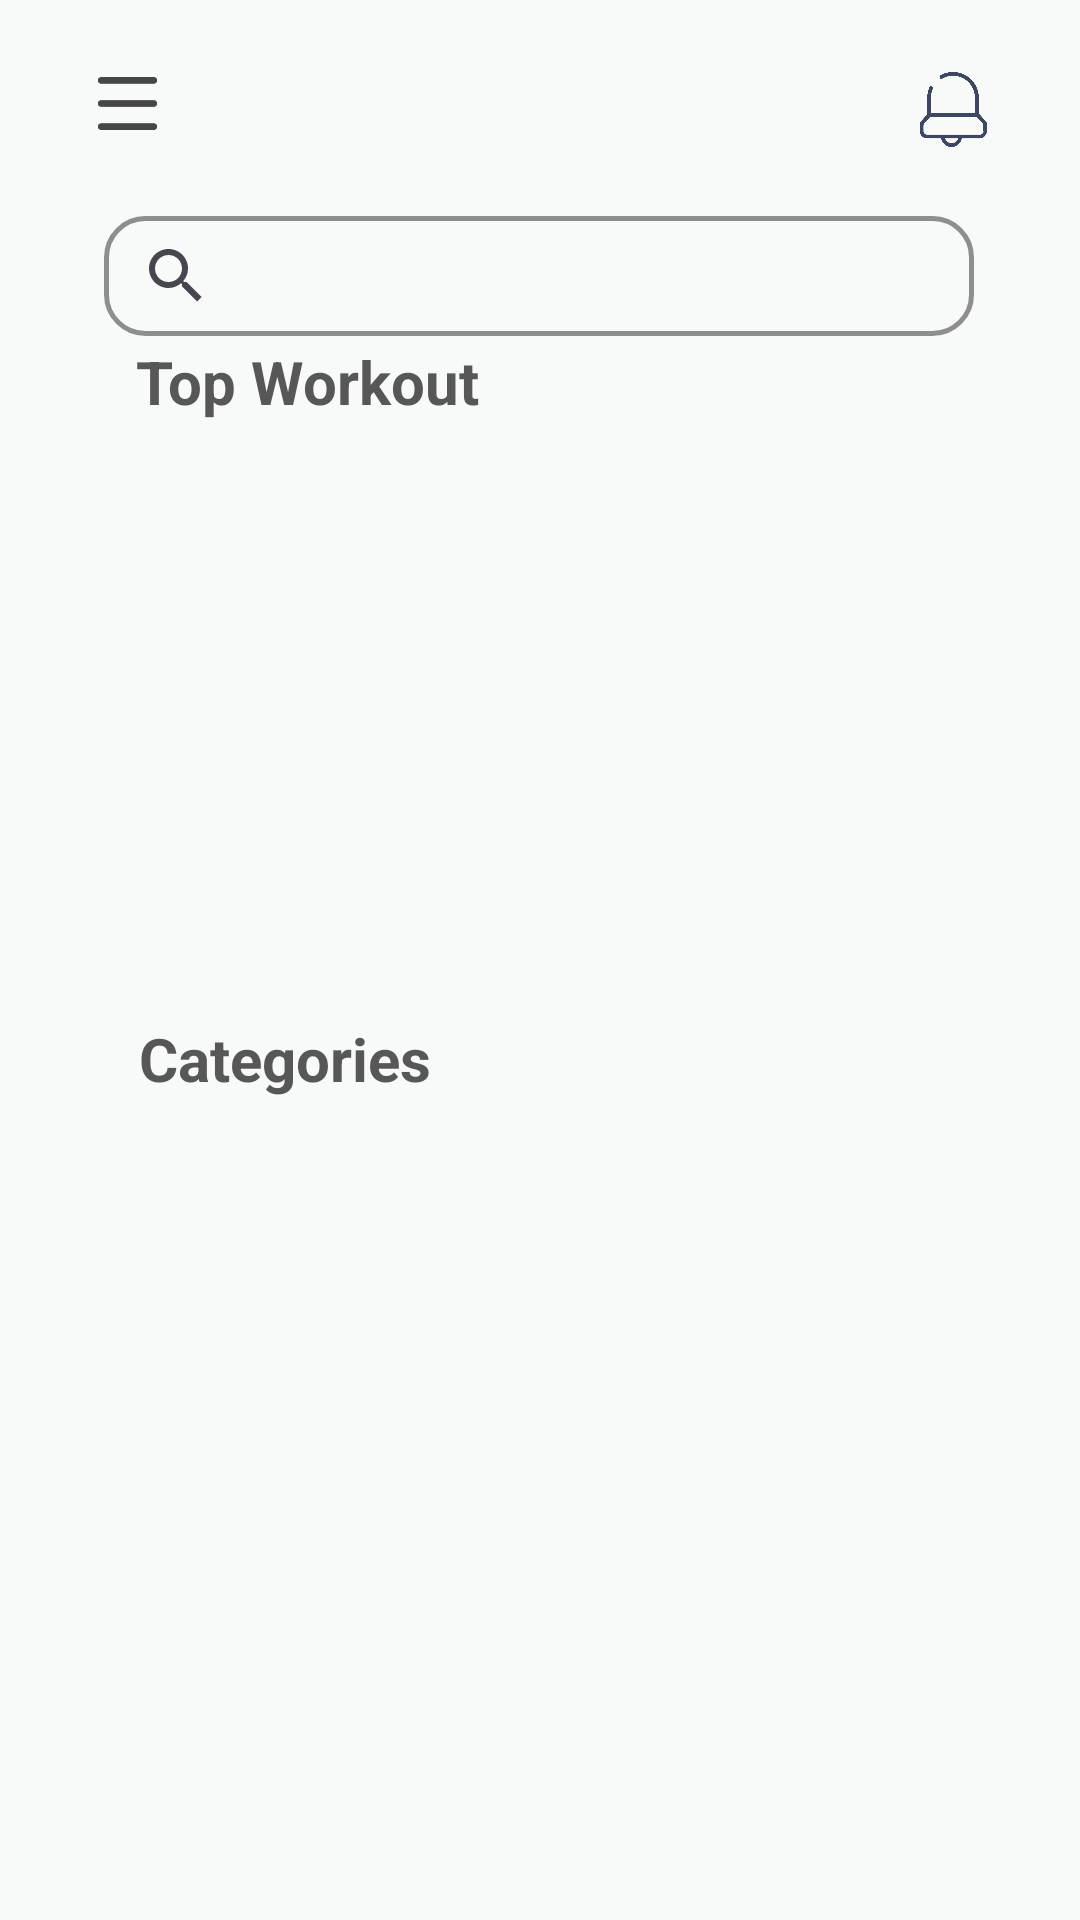

Named icons in this screenshot (1080x1920) and their centers, (x=x, y=y):
menuicina: (x=127, y=103)
notification: (x=953, y=109)
